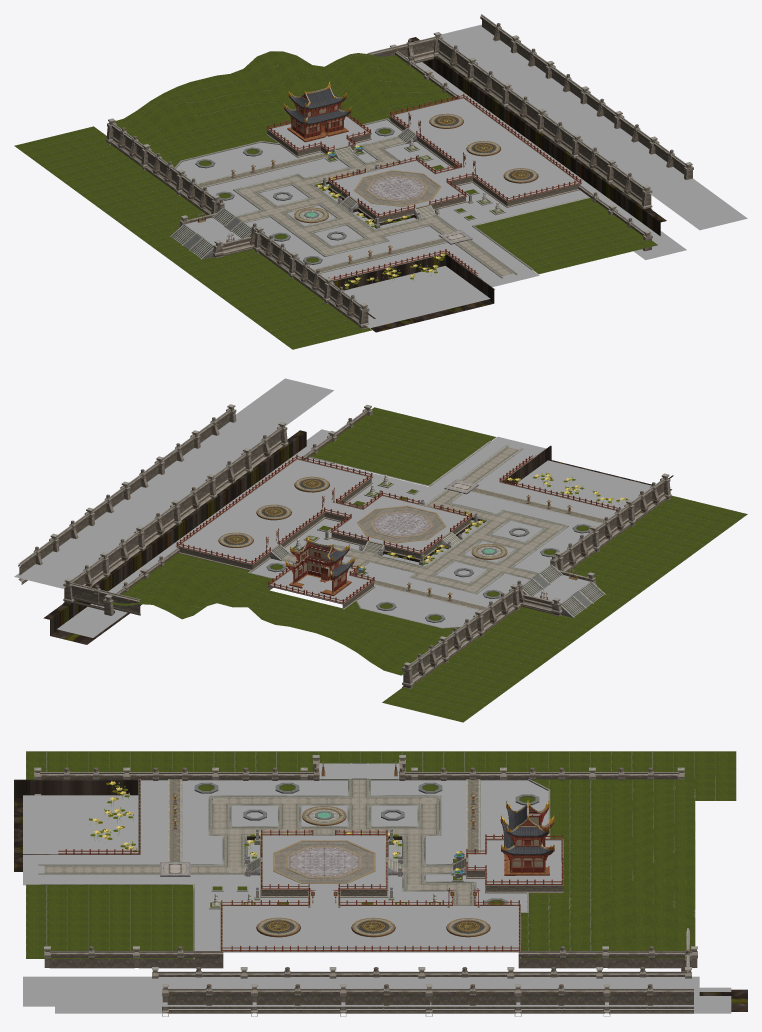
3 views of the same model, one above another, from view 1: azimuth 30°, elevation 25°; view 2: azimuth 150°, elevation 25°; view 3: azimuth 270°, elevation 25° (orthographic). The views are drawn at different scales.
Parts seen in each view (by area): view 1: Administrator_20170330_1118:Administrator_20170330_1118:Admi (×26), polySurface8, polySurface4, polySurface7, polySurface6, polySurface9, polySurface1, polySurface15, polySurface11, polySurface5, polySurface3; view 2: Administrator_20170330_1118:Administrator_20170330_1118:Admi (×25), polySurface8, polySurface4, polySurface7, polySurface6, polySurface9, polySurface1, polySurface11, polySurface15, polySurface5, polySurface3; view 3: Administrator_20170330_1118:Administrator_20170330_1118:Admi (×29), polySurface4, polySurface8, polySurface7, polySurface6, polySurface9, polySurface1, polySurface15, polySurface11, polySurface5, polySurface3.
Boxes of the visible parts, x1,y1,x2,y2 form: Administrator_20170330_1118:Administrator_20170330_1118:Admi (×26): (14, 14, 693, 349); polySurface8: (434, 24, 747, 230); polySurface4: (245, 183, 588, 287); polySurface7: (392, 98, 578, 200); polySurface6: (176, 120, 452, 215); polySurface9: (344, 266, 490, 328); polySurface1: (236, 175, 356, 232); polySurface15: (331, 160, 472, 216); polySurface11: (415, 62, 686, 260); polySurface5: (269, 116, 368, 149); polySurface3: (185, 217, 241, 245); Administrator_20170330_1118:Administrator_20170330_1118:Admi (×25): (18, 404, 747, 722); polySurface8: (14, 378, 333, 588); polySurface4: (305, 436, 616, 572); polySurface7: (179, 459, 369, 563); polySurface6: (249, 518, 529, 627); polySurface9: (515, 460, 671, 509); polySurface1: (412, 534, 537, 592); polySurface11: (57, 429, 331, 637); polySurface15: (325, 496, 469, 552); polySurface5: (271, 564, 371, 602); polySurface3: (533, 575, 589, 602); Administrator_20170330_1118:Administrator_20170330_1118:Admi (×29): (14, 751, 747, 1016); polySurface4: (23, 780, 348, 950); polySurface8: (23, 976, 699, 1006); polySurface7: (223, 905, 518, 949); polySurface6: (340, 780, 548, 911); polySurface9: (23, 795, 138, 855); polySurface1: (289, 779, 438, 835); polySurface15: (263, 835, 385, 905); polySurface11: (55, 987, 731, 1013); polySurface5: (468, 840, 560, 883); polySurface3: (319, 764, 399, 778).
Size of the model in its own units: 163 by 25.03 by 178.
6 materials, 5 textured.
